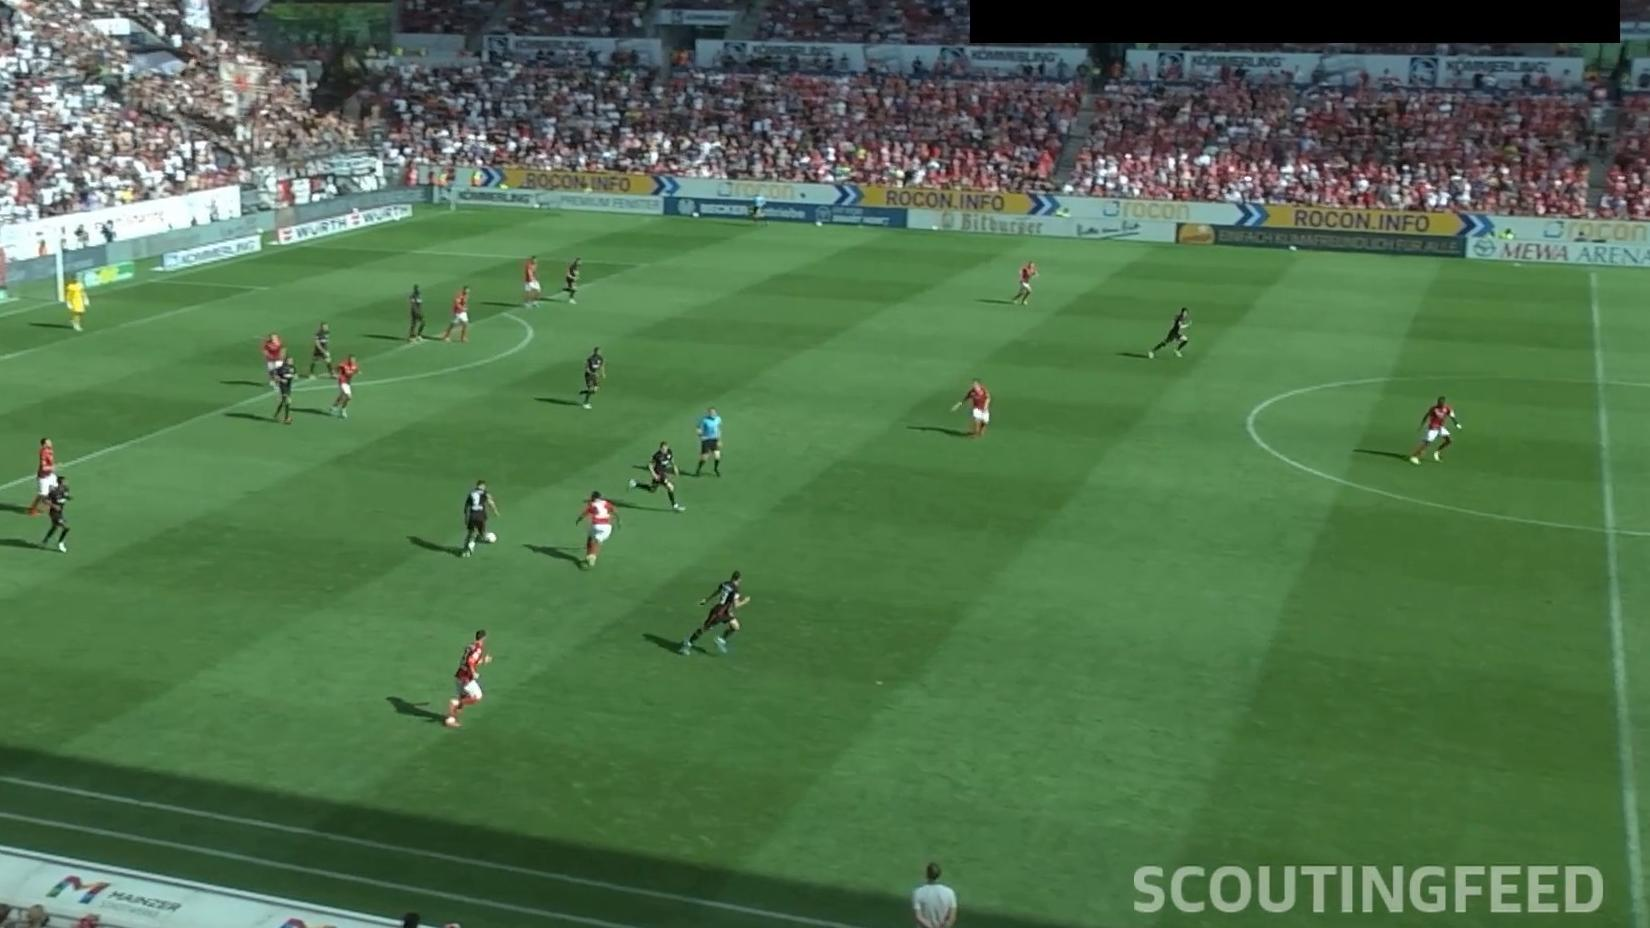ball: (485, 530, 499, 544)
